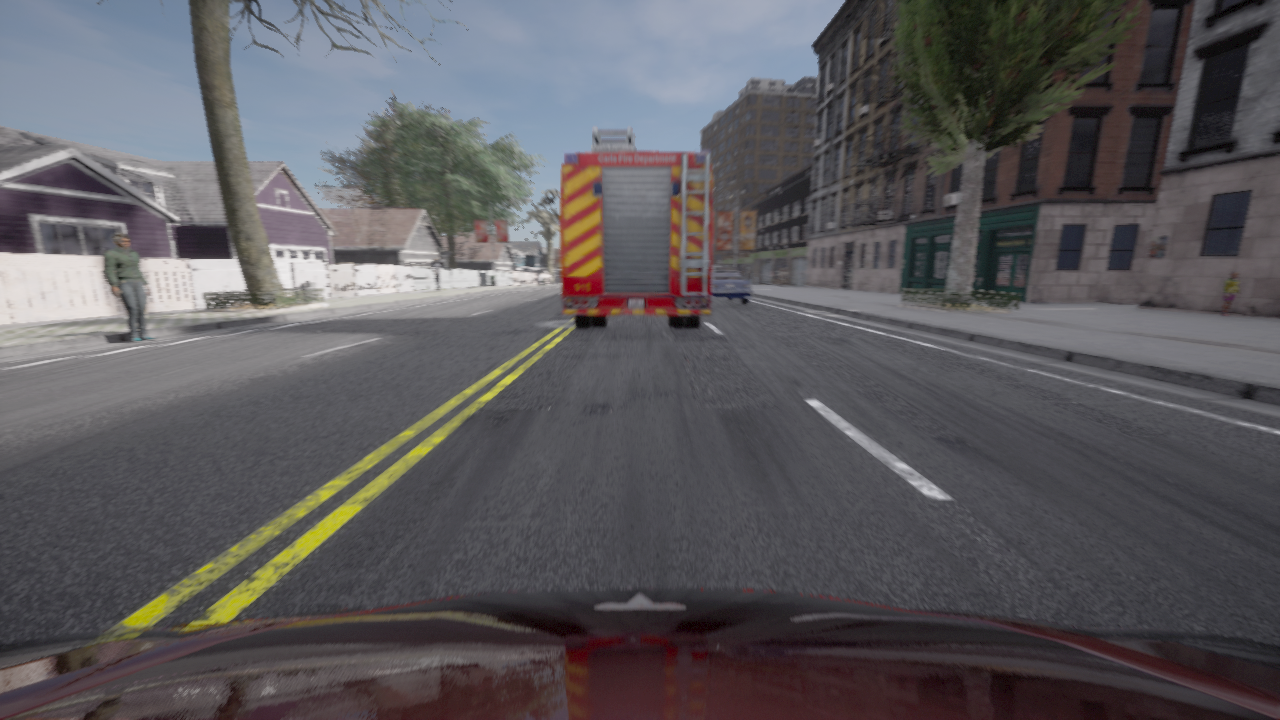cyclist: (0, 588, 1279, 719), (560, 127, 713, 327), (711, 268, 752, 304)
pedestrian: (104, 233, 155, 342), (1221, 270, 1239, 316), (432, 259, 440, 291)
